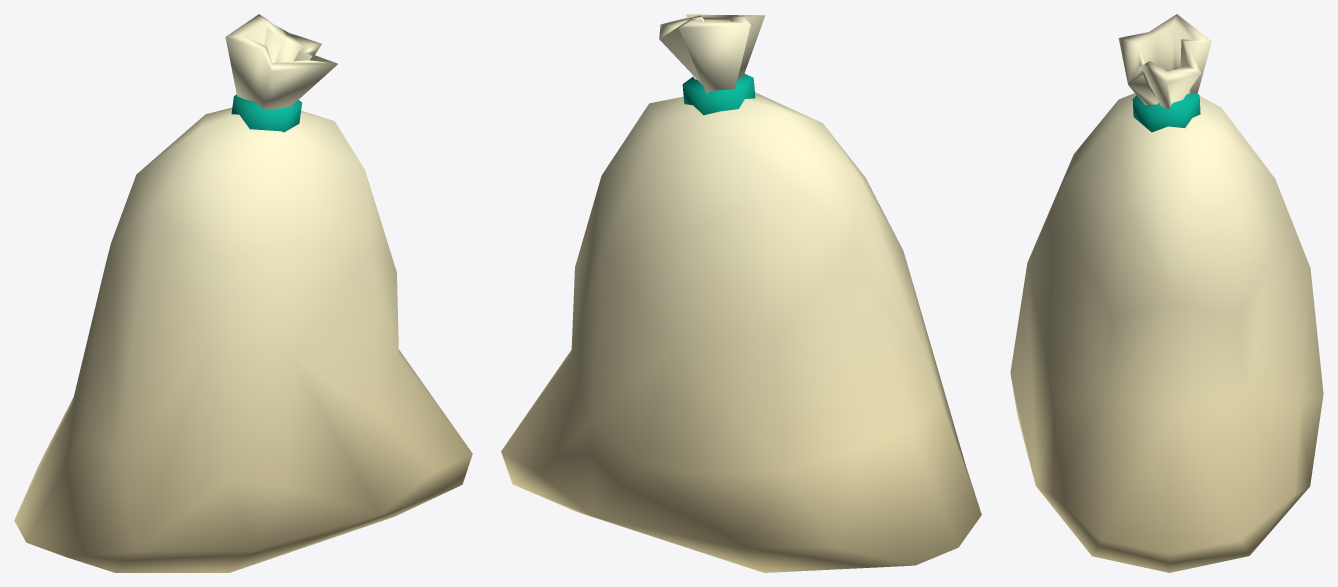
The model's file is ClothBag_1_Laundromat.fbx.
The picture shows the model from 3 angles, left to right: view 1: azimuth 30°, elevation 25°; view 2: azimuth 150°, elevation 25°; view 3: azimuth 270°, elevation 25°; orthographic projection. The views are drawn at different scales.
Visible parts, largest first — view 1: ClothBag_1.Laundromat; view 2: ClothBag_1.Laundromat; view 3: ClothBag_1.Laundromat.
Boxes of the visible parts, bbox=[...] form: ClothBag_1.Laundromat: bbox=[14, 14, 472, 572]; ClothBag_1.Laundromat: bbox=[501, 14, 981, 572]; ClothBag_1.Laundromat: bbox=[1010, 14, 1323, 572].
Size of the model in its own units: 104 by 112 by 68.19.
Materials: 1 (1 with a texture image).
